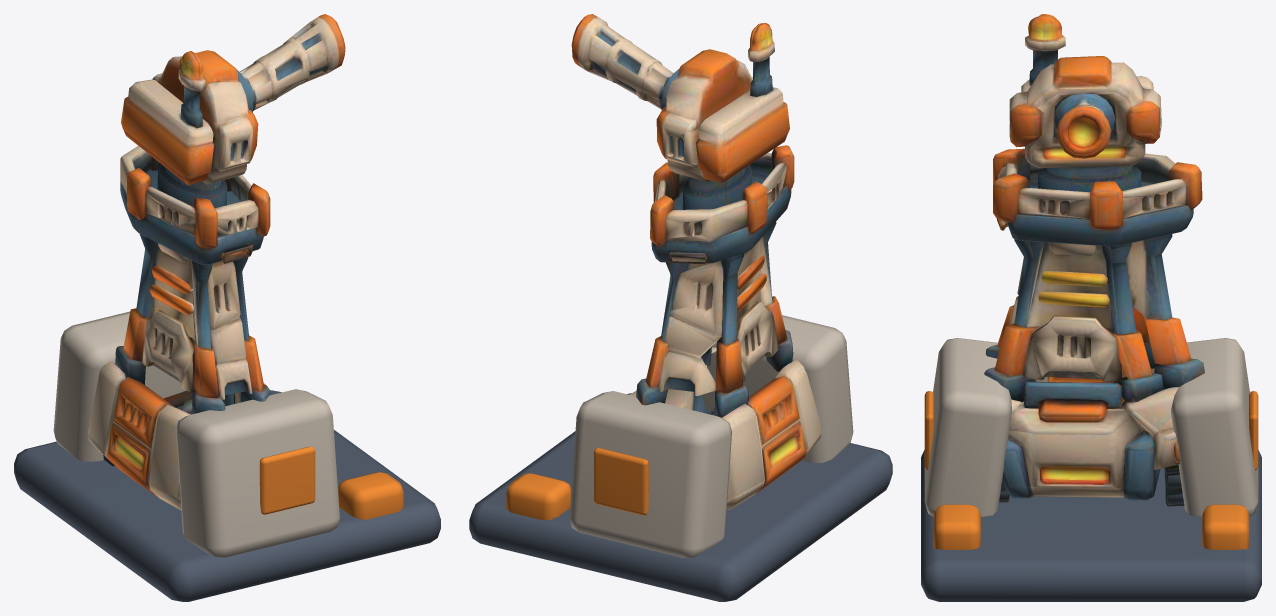
The model's file is struct_steel_pylon.glb.
3 views of the same model, side by side, from view 1: azimuth 30°, elevation 25°; view 2: azimuth 150°, elevation 25°; view 3: azimuth 270°, elevation 25° (orthographic).
Parts seen in each view (by area): view 1: Structure silhouette details, tripo_node_b62bb675-c028-4065-9b28-2079bd9a5304; view 2: Structure silhouette details, tripo_node_b62bb675-c028-4065-9b28-2079bd9a5304; view 3: tripo_node_b62bb675-c028-4065-9b28-2079bd9a5304, Structure silhouette details.
Part boxes in pixels (x1,y1,x2,y2): Structure silhouette details: (14, 311, 440, 601); tripo_node_b62bb675-c028-4065-9b28-2079bd9a5304: (87, 14, 345, 510); Structure silhouette details: (469, 315, 892, 601); tripo_node_b62bb675-c028-4065-9b28-2079bd9a5304: (571, 14, 821, 509); tripo_node_b62bb675-c028-4065-9b28-2079bd9a5304: (984, 14, 1204, 506); Structure silhouette details: (921, 338, 1261, 601).
Bounding box in the file's own units: 0.77 × 1.34 × 0.83.
4 materials, 1 textured.
